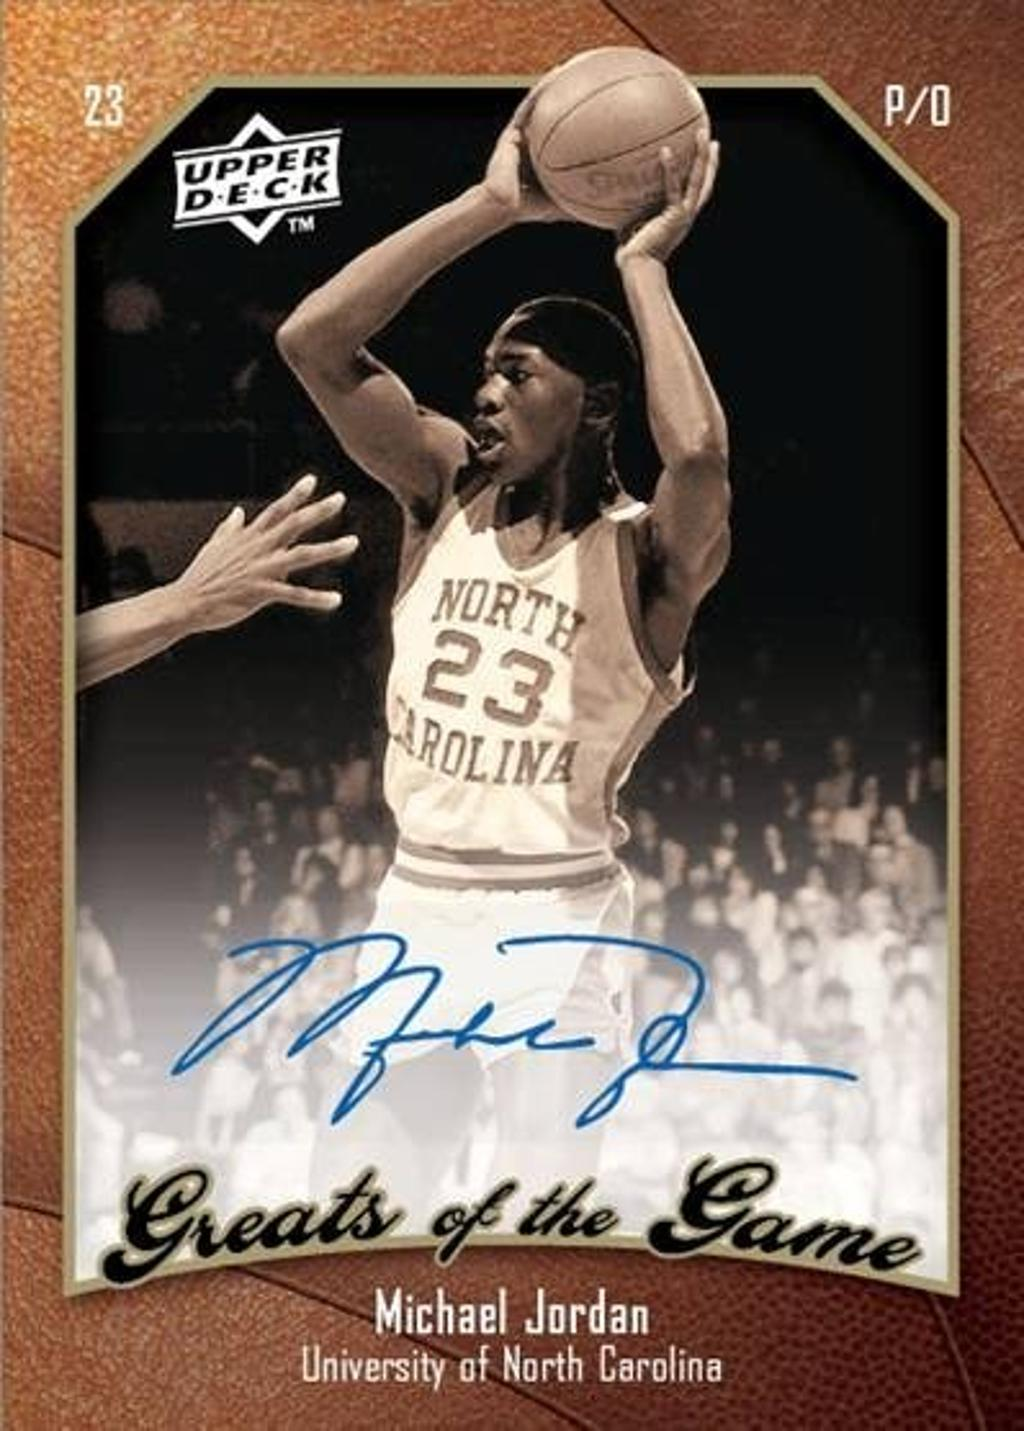face: (467, 308, 587, 487)
